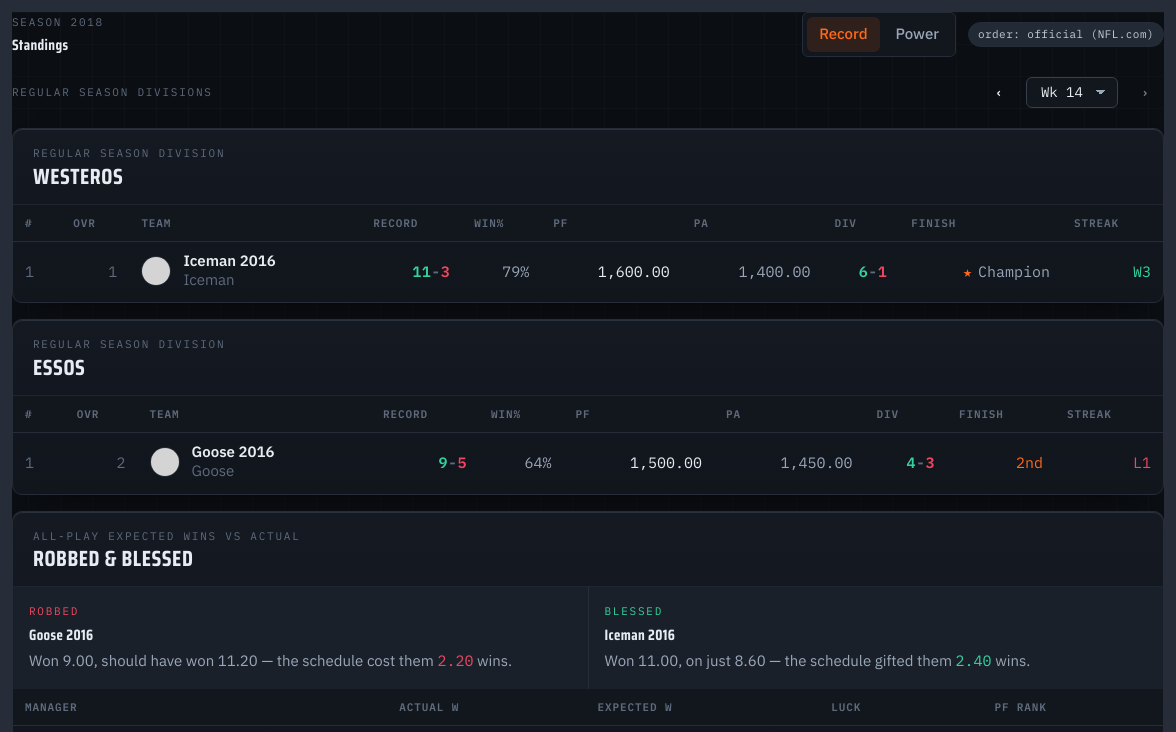
Scenario: StandingsPage › sends one Record week to standings, insights, and divisions and hides Finish
This screenshot has width=1176, height=732.
Select "Wk 7" in the dropdown named "Select week" at (1072, 92), box [1026,77,1118,108]
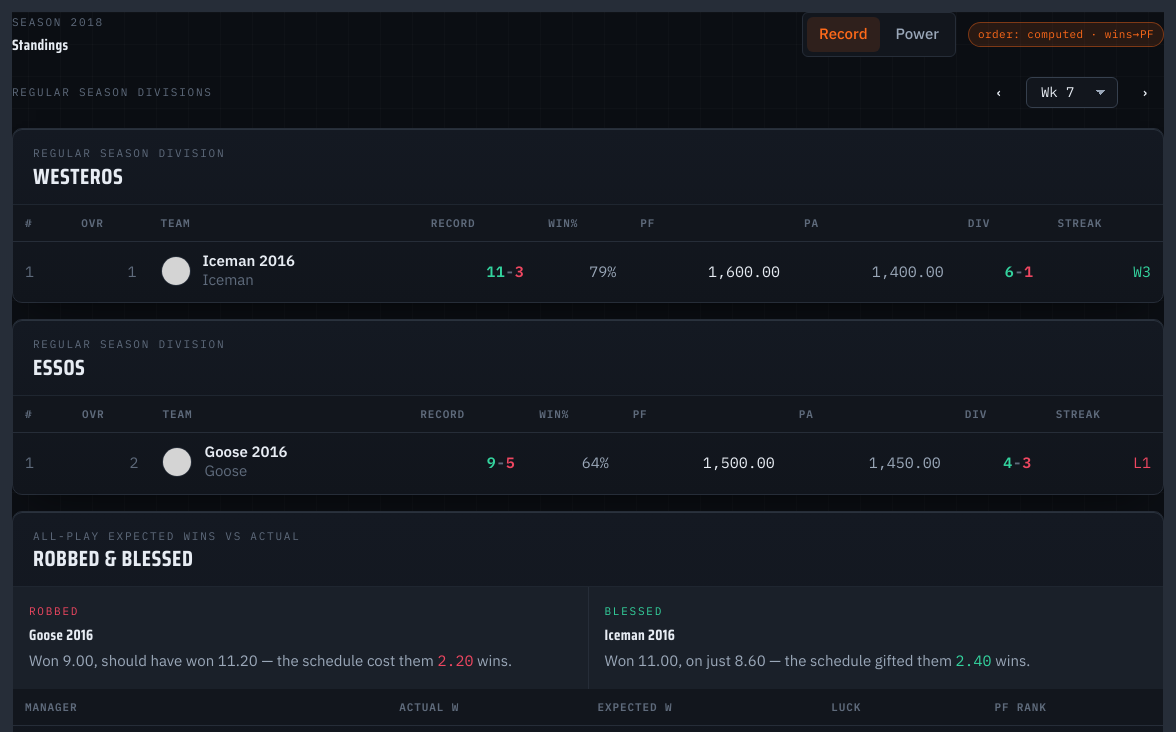
Check: the column heading "Finish" is gone
